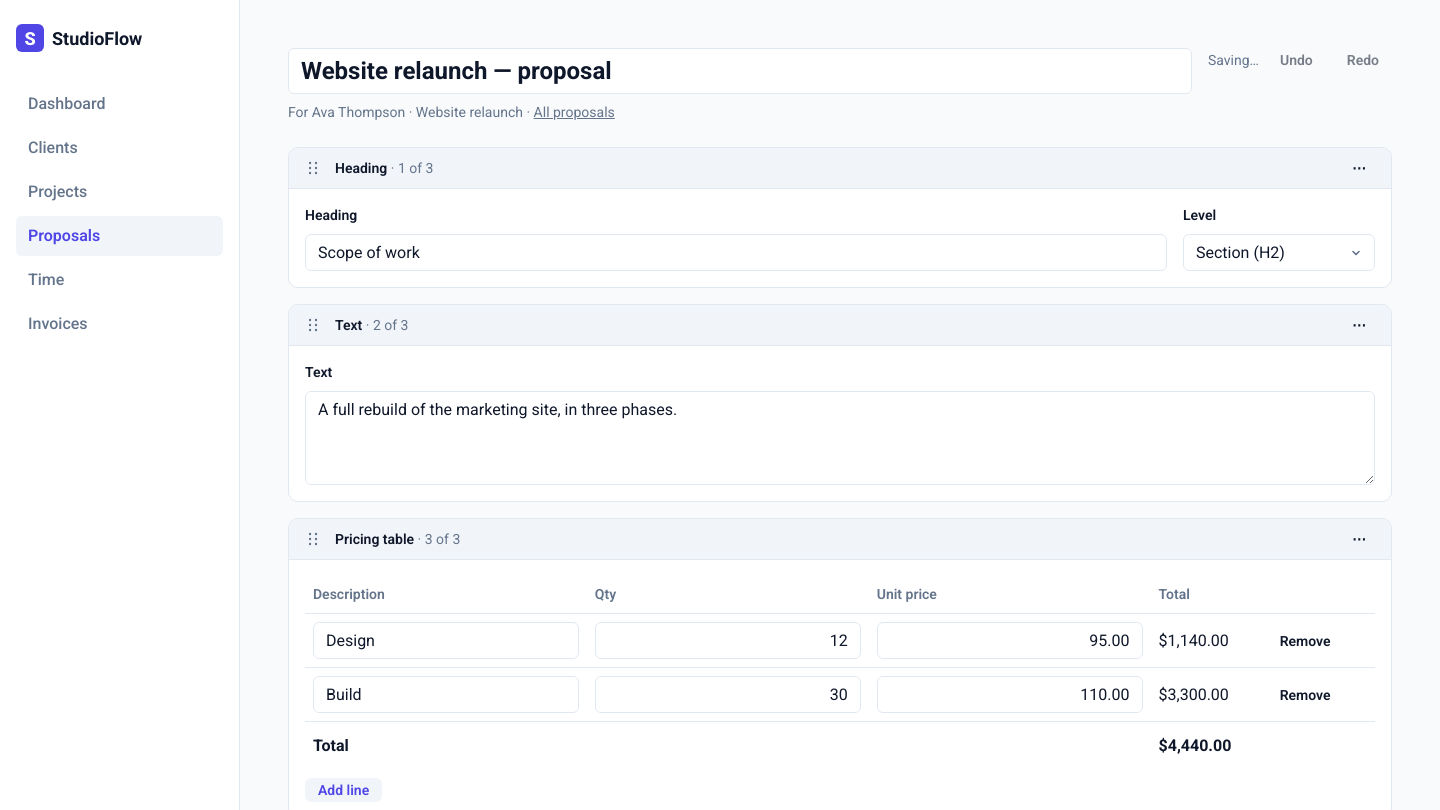
Test: ProposalEditorPage — editing › keeps money in integer cents while the user types
Expected: the field named "Proposal title" is shown, [288,48,1192,94]
Step 1. Replace the text in the field named "Unit price, line 1" with "12.34" → (1010, 640), box [877,622,1142,659]
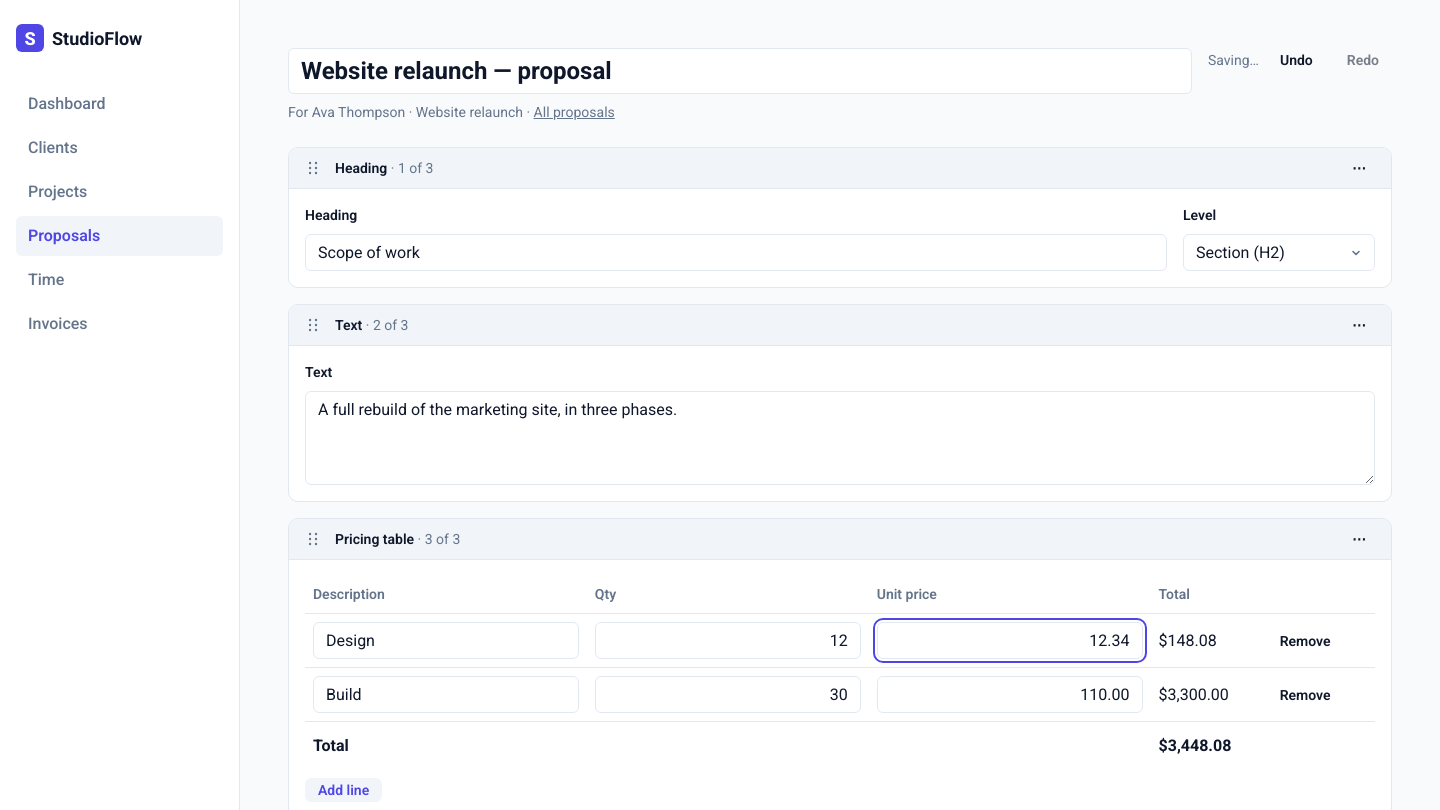
Now the text "$148.08" is shown, box [1150,614,1259,668]
